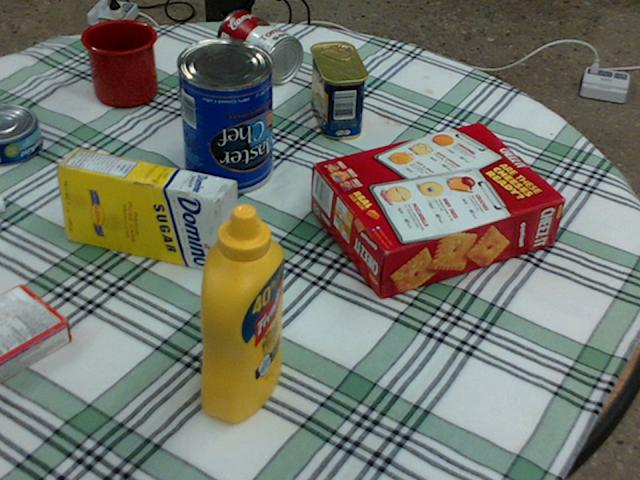cracker_box: (313, 123, 564, 299)
gelatin_box: (0, 284, 71, 381)
large_marker: (0, 195, 4, 212)
master_chef_can: (174, 38, 270, 193)
mug: (82, 19, 158, 105)
mustard_bottle: (199, 204, 283, 420)
potted_meat_can: (308, 42, 366, 139)
sugar_box: (55, 148, 236, 274)
tomato_soup_can: (216, 10, 301, 82)
tuna_fish_can: (0, 103, 41, 164)
